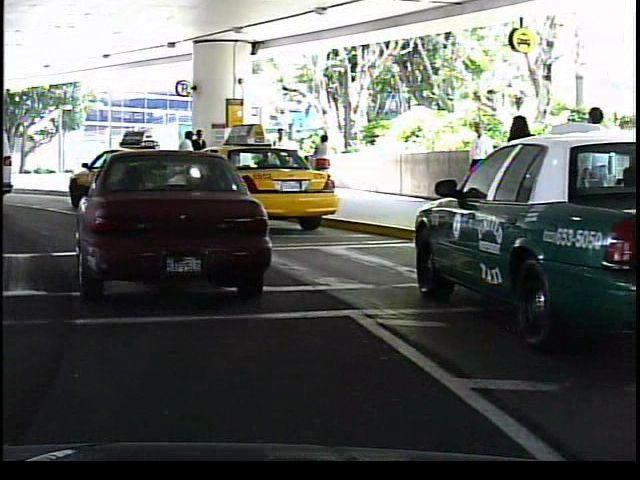person: (496, 108, 547, 252), (570, 98, 615, 244), (462, 115, 495, 214), (266, 123, 293, 193), (174, 130, 199, 193), (308, 130, 334, 189), (191, 127, 211, 192)
